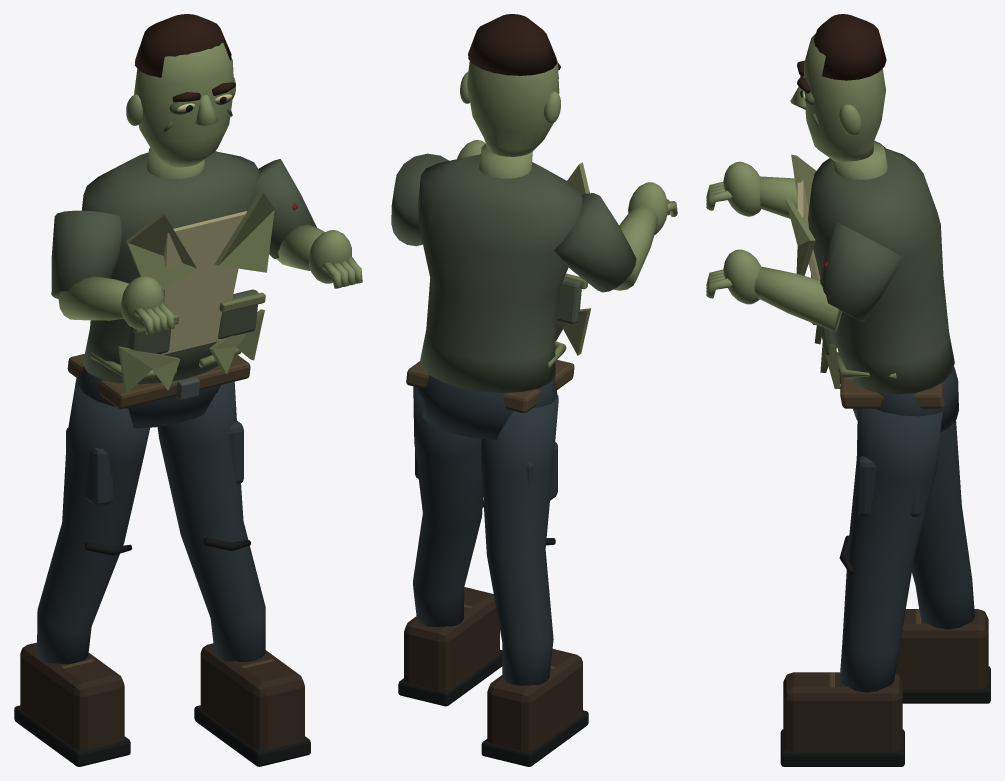
File: walker.glb
The picture shows the model from 3 angles, left to right: view 1: azimuth 30°, elevation 25°; view 2: azimuth 150°, elevation 25°; view 3: azimuth 270°, elevation 25°; orthographic projection. The views are drawn at different scales.
Visible parts, largest first — view 1: walker; view 2: walker; view 3: walker.
Boxes of the visible parts, x1=… form: walker: x1=14, y1=14, x2=362, y2=766; walker: x1=391, y1=14, x2=677, y2=766; walker: x1=706, y1=14, x2=990, y2=766.
Size of the model in its own units: 0.6018 by 1.62 by 0.5965.
